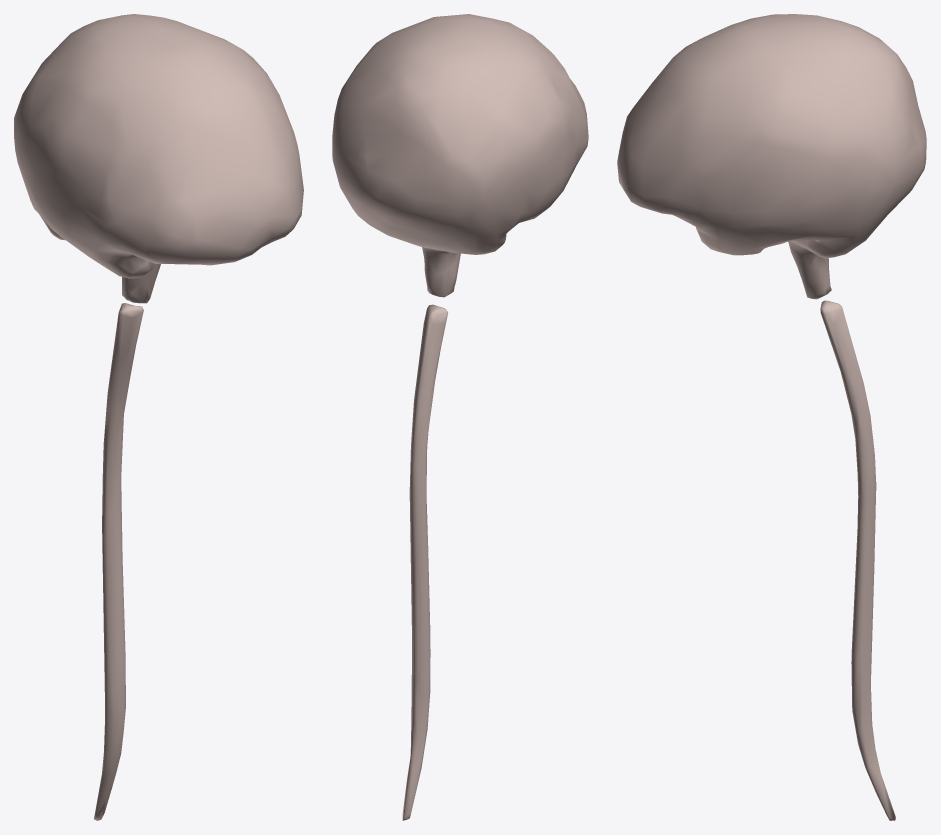
The model's file is pediatric_neonate_male.nervous.LOD1.glb.
3 renders of one model, left to right at view 1: azimuth 30°, elevation 25°; view 2: azimuth 150°, elevation 25°; view 3: azimuth 270°, elevation 25°, orthographic. The views are drawn at different scales.
Visible parts, largest first — view 1: PEDIATRIC.NEONATE.MALE.NERVOUS.BRAIN, PEDIATRIC.NEONATE.MALE.NERVOUS.SPINAL_CORD; view 2: PEDIATRIC.NEONATE.MALE.NERVOUS.BRAIN, PEDIATRIC.NEONATE.MALE.NERVOUS.SPINAL_CORD; view 3: PEDIATRIC.NEONATE.MALE.NERVOUS.BRAIN, PEDIATRIC.NEONATE.MALE.NERVOUS.SPINAL_CORD.
Part boxes in pixels (bbox=[...]): PEDIATRIC.NEONATE.MALE.NERVOUS.BRAIN: bbox=[14, 14, 303, 303]; PEDIATRIC.NEONATE.MALE.NERVOUS.SPINAL_CORD: bbox=[94, 303, 143, 820]; PEDIATRIC.NEONATE.MALE.NERVOUS.BRAIN: bbox=[332, 14, 588, 297]; PEDIATRIC.NEONATE.MALE.NERVOUS.SPINAL_CORD: bbox=[402, 304, 447, 820]; PEDIATRIC.NEONATE.MALE.NERVOUS.BRAIN: bbox=[617, 14, 926, 299]; PEDIATRIC.NEONATE.MALE.NERVOUS.SPINAL_CORD: bbox=[820, 300, 895, 820].
Bounding box in the file's own units: 0.0863 × 0.3017 × 0.1068.
